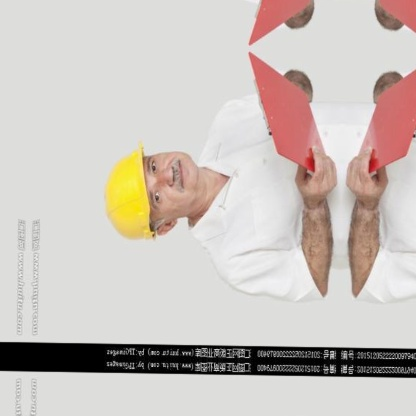yellow: (98, 137, 158, 247)
